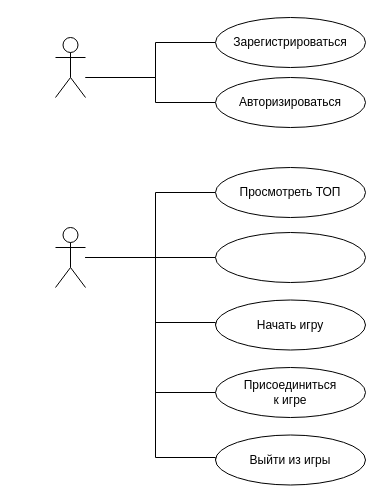
Some shapes in this 383 by 503 pixel diagram are drawn without their labels. Each missing label, with the box of its shape:
Авторизированный игрок: (54, 226, 86, 288)
Неавторизованный игрок: (54, 36, 86, 98)
Просмотреть список существующих комнат: (214, 232, 366, 282)
